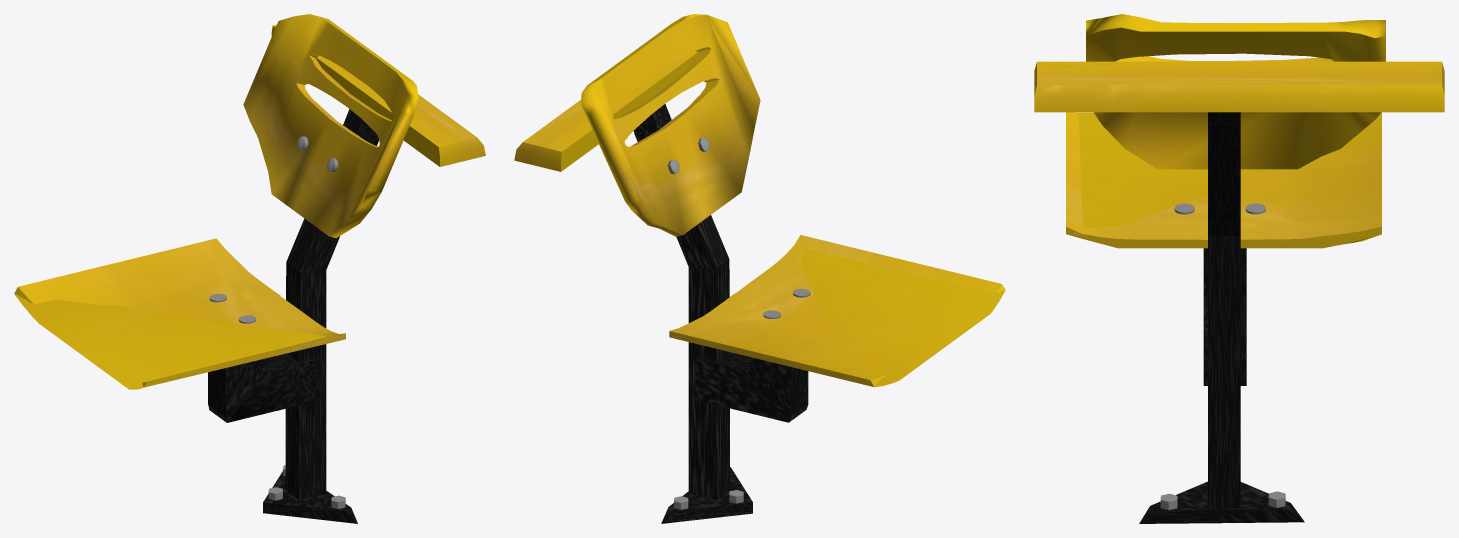
Rendered from ChaiseAmphi Fond.fbx.
3 renders of one model, left to right at view 1: azimuth 30°, elevation 25°; view 2: azimuth 150°, elevation 25°; view 3: azimuth 270°, elevation 25°, orthographic. The views are drawn at different scales.
Visible parts, largest first — view 1: polySurface982.001, polySurface988.001, polySurface994.001, polySurface852; view 2: polySurface982.001, polySurface988.001, polySurface994.001, polySurface852; view 3: polySurface982.001, polySurface988.001, polySurface852, polySurface994.001.
Boxes of the visible parts, <box> form: polySurface982.001: <box>14,238,345,389</box>; polySurface988.001: <box>243,14,418,238</box>; polySurface994.001: <box>208,109,379,523</box>; polySurface852: <box>271,24,485,166</box>; polySurface982.001: <box>669,235,1005,387</box>; polySurface988.001: <box>581,14,760,236</box>; polySurface994.001: <box>633,104,808,523</box>; polySurface852: <box>514,51,697,171</box>; polySurface982.001: <box>1066,112,1381,248</box>; polySurface988.001: <box>1086,14,1385,169</box>; polySurface852: <box>1034,61,1444,112</box>; polySurface994.001: <box>1139,112,1304,523</box>.
Bounding box in the file's own units: 0.6067 × 0.7702 × 0.537.
